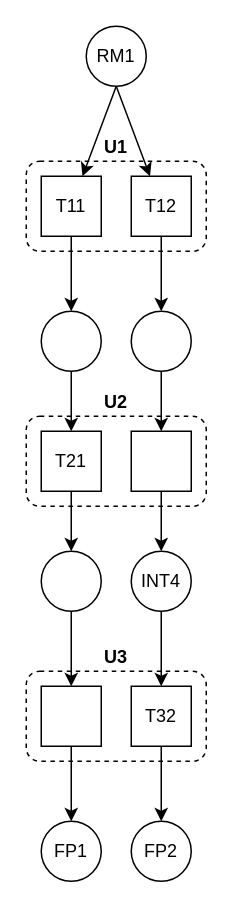
The diagram is 233 pixels wide and 908 high, and some of its shapes have lost their labels. Here are the shapes that lost their labels. From the top down, the centre of each, then its label:
At (70,340): "INT1".
At (160,340): "INT2".
At (160,460): "T22".
At (70,580): "INT3".
At (70,715): "T31".
